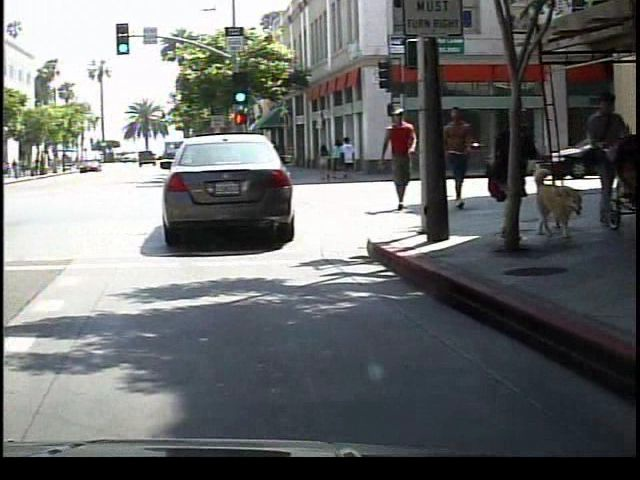person: (377, 103, 420, 220), (437, 101, 479, 218)
